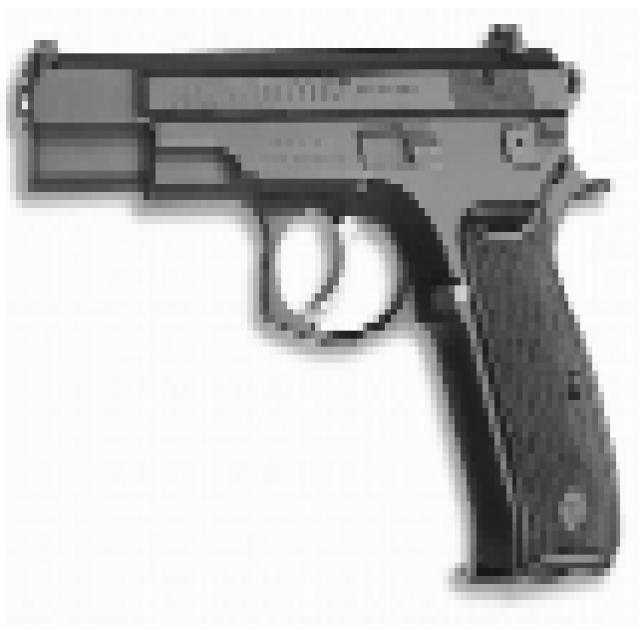HandGun: (16, 24, 620, 579)
